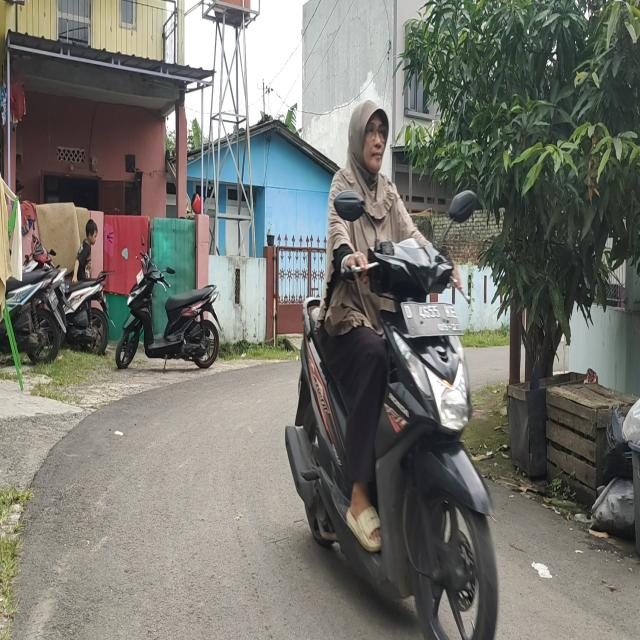no-helmet: (346, 99, 392, 177)
